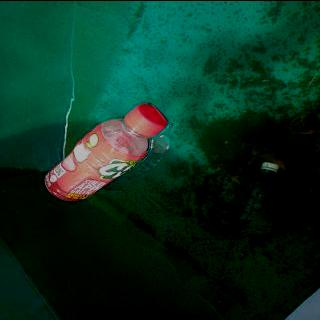bottle: (42, 102, 170, 202)
